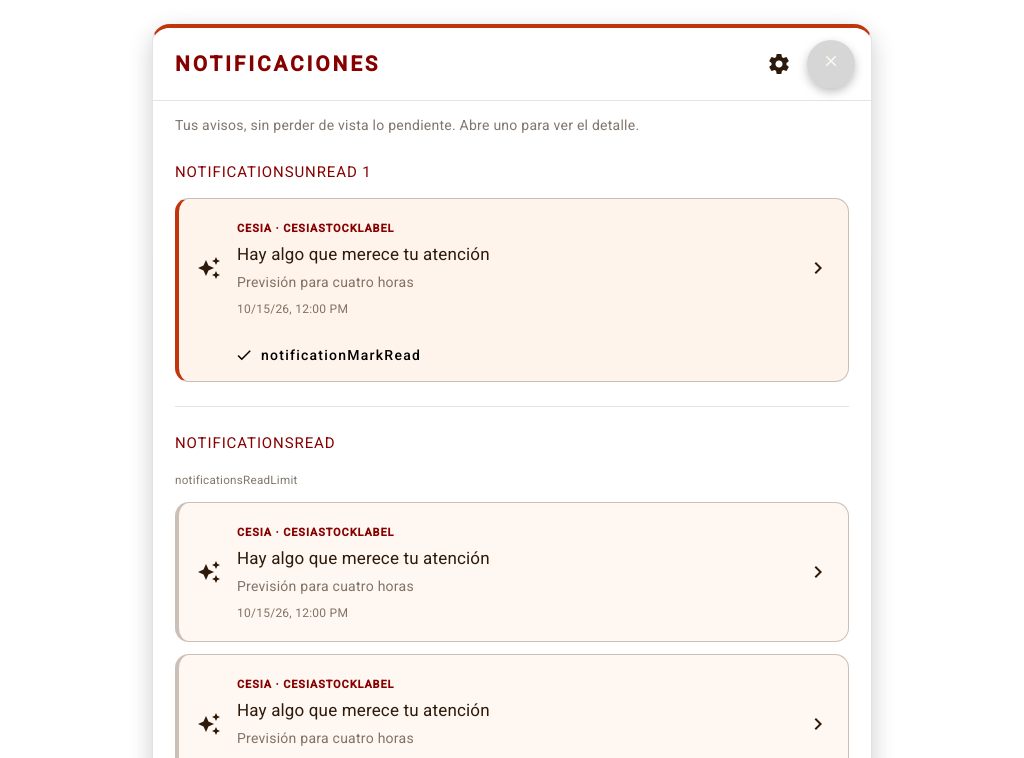
it: Centro de notificaciones · plantilla real › la tuerca muestra tipos y canales separados y regresar restaura la bandeja
The width and height of the screenshot is (1024, 758).
Click the button with class "settings-button" at (779, 64), box [755,40,803,88]
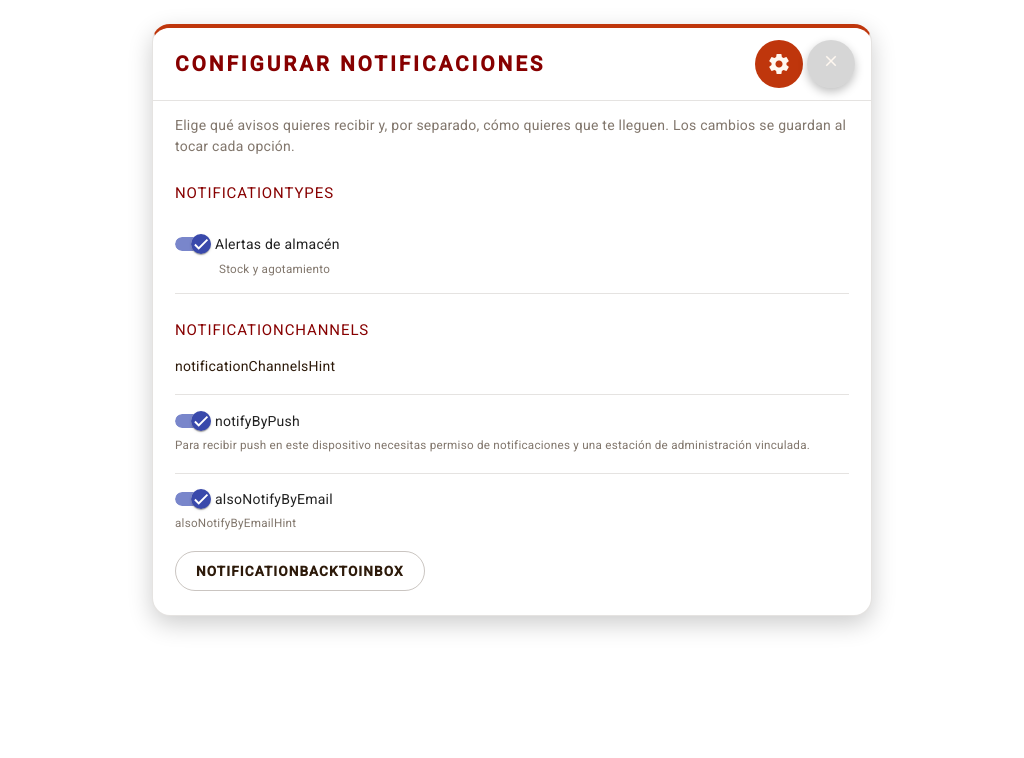
Check: the text "notificationTypes" is shown, box [175,184,334,202]
Check: the text "notificationChannels" is shown, box [175,321,369,339]
Check: the text "notifyByPush" is shown, box [211,411,300,431]
Click the button with class "settings-button" at (779, 64), box [755,40,803,88]
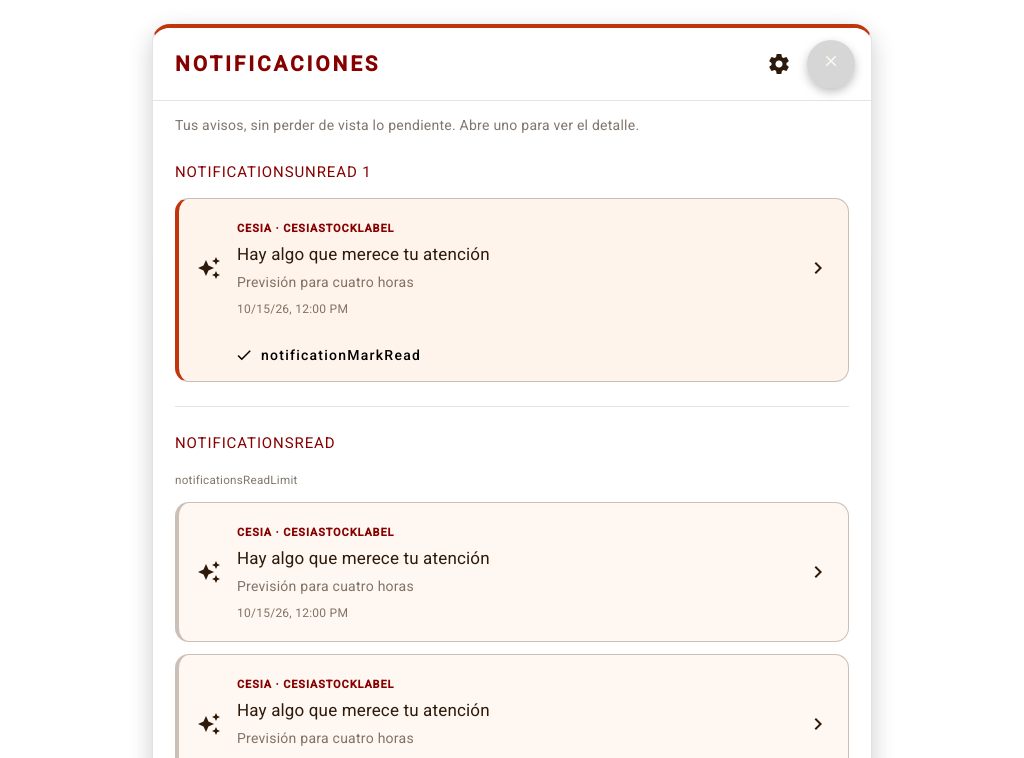
Check: the 1st element with class "notification-card" is shown, box [175,198,849,382]
